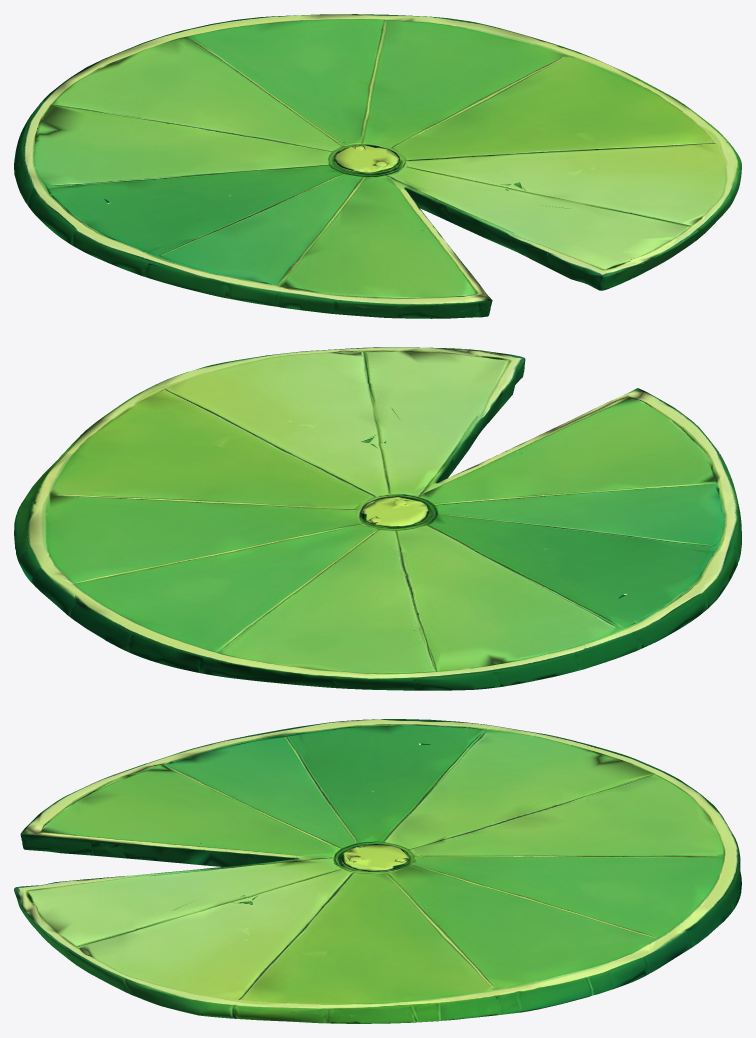
Rendered from sen_2.glb.
3 views of the same model, one above another, from view 1: azimuth 30°, elevation 25°; view 2: azimuth 150°, elevation 25°; view 3: azimuth 270°, elevation 25° (orthographic). The views are drawn at different scales.
Visible parts, largest first — view 1: leaf; view 2: leaf; view 3: leaf.
Boxes of the visible parts, bbox=[...] form: leaf: bbox=[14, 14, 741, 318]; leaf: bbox=[14, 347, 741, 690]; leaf: bbox=[14, 719, 741, 1023].
Size of the model in its own units: 1.95 by 0.0597 by 2.05.
Materials: 1 (1 with a texture image).
